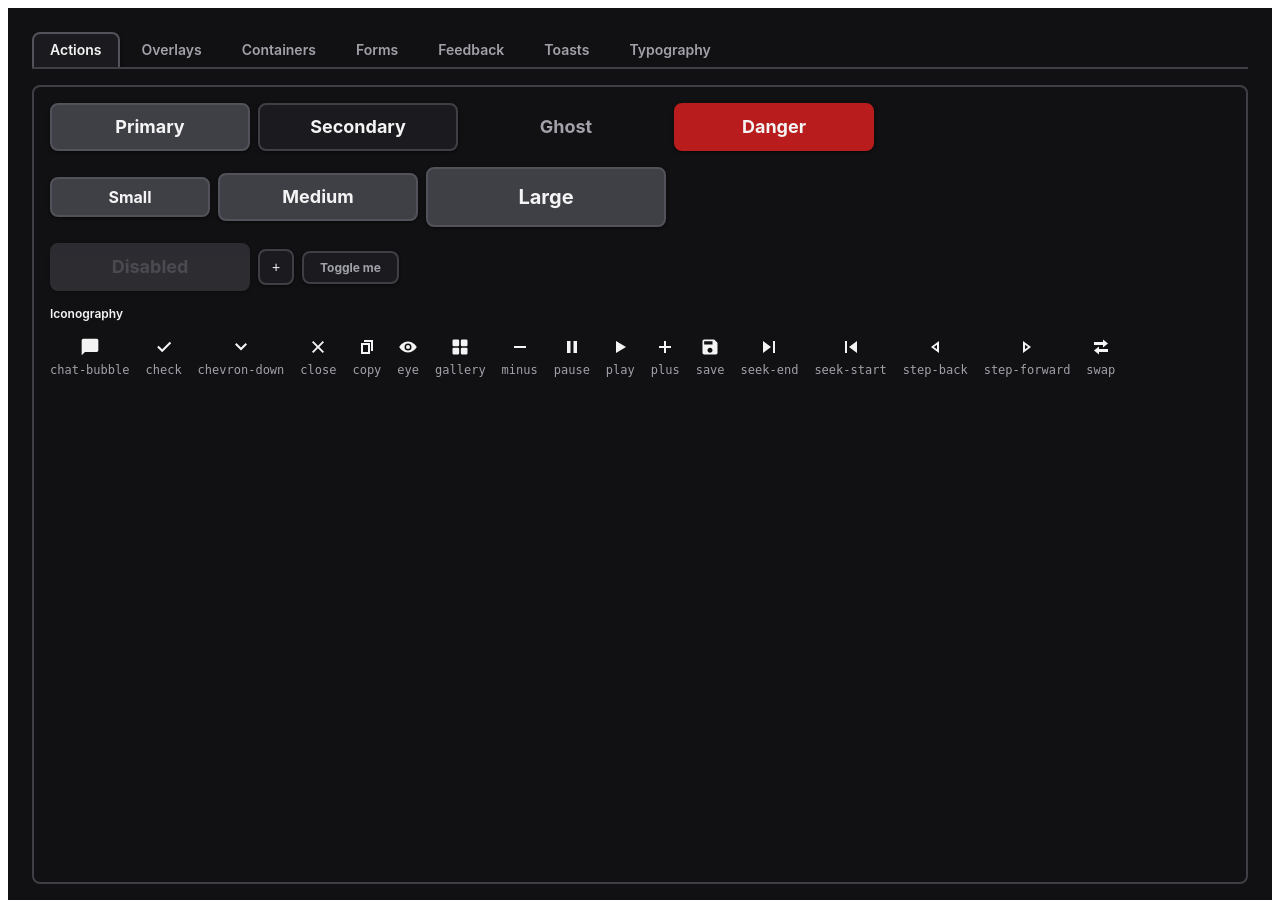
Test: ComponentGalleryClient — modal interaction › closes the example Modal when the close button is clicked
Step 1. Click the tab "Overlays" → (172, 50), box [124,32,220,67]
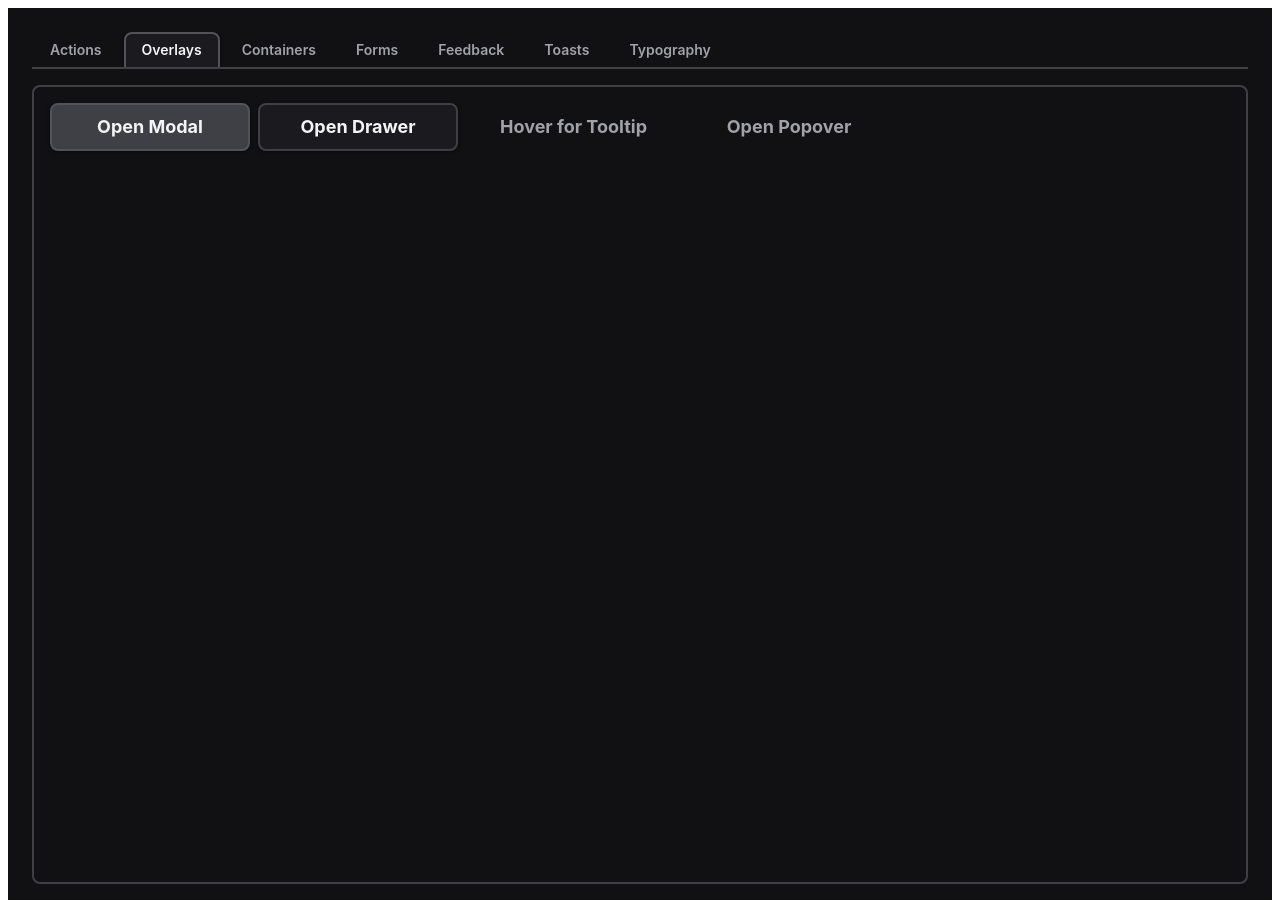
Step 2. Click the button with test id "gallery-open-modal" → (150, 127), box [50,103,250,151]
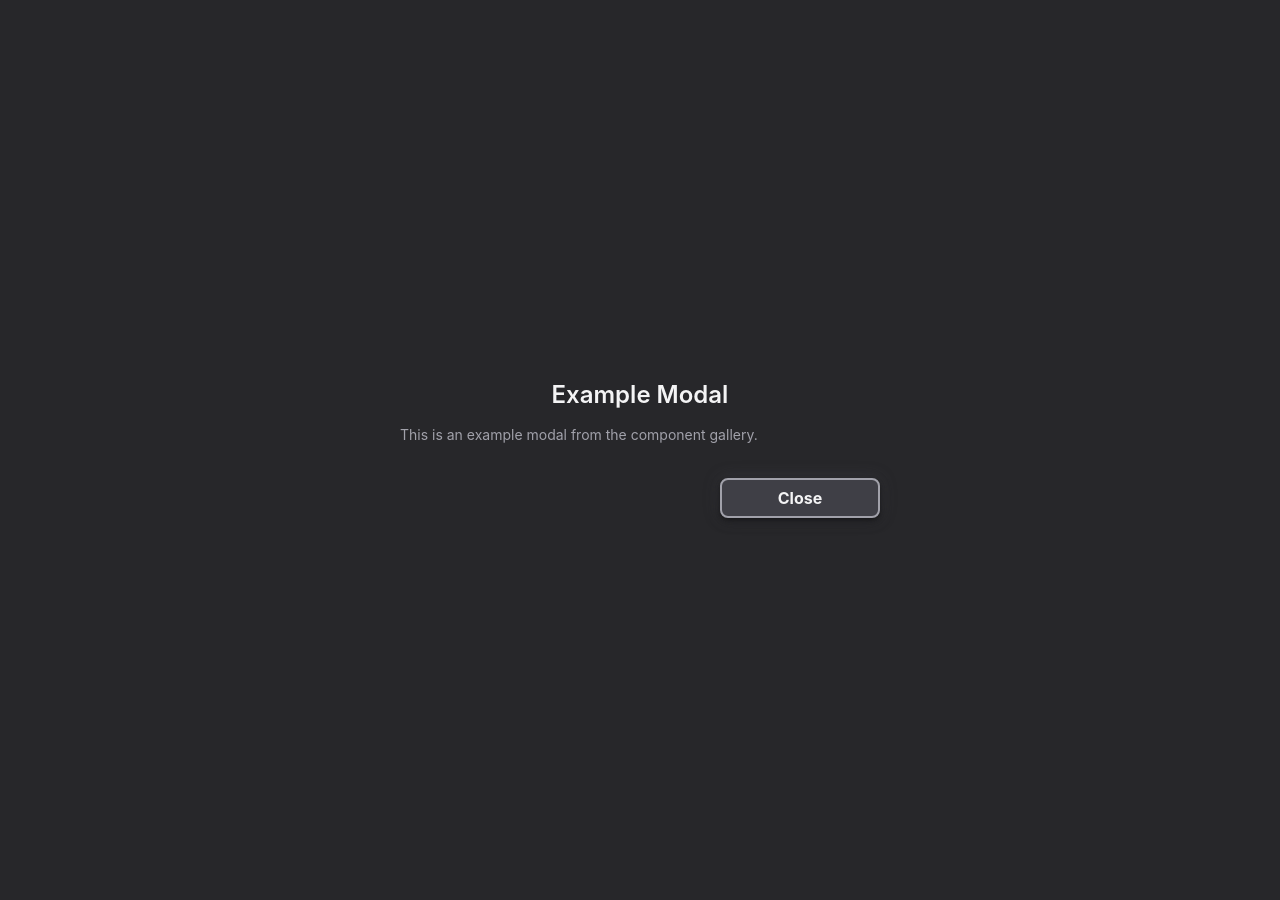
Step 3. Click the button "Close" → (800, 498), box [720,478,880,518]
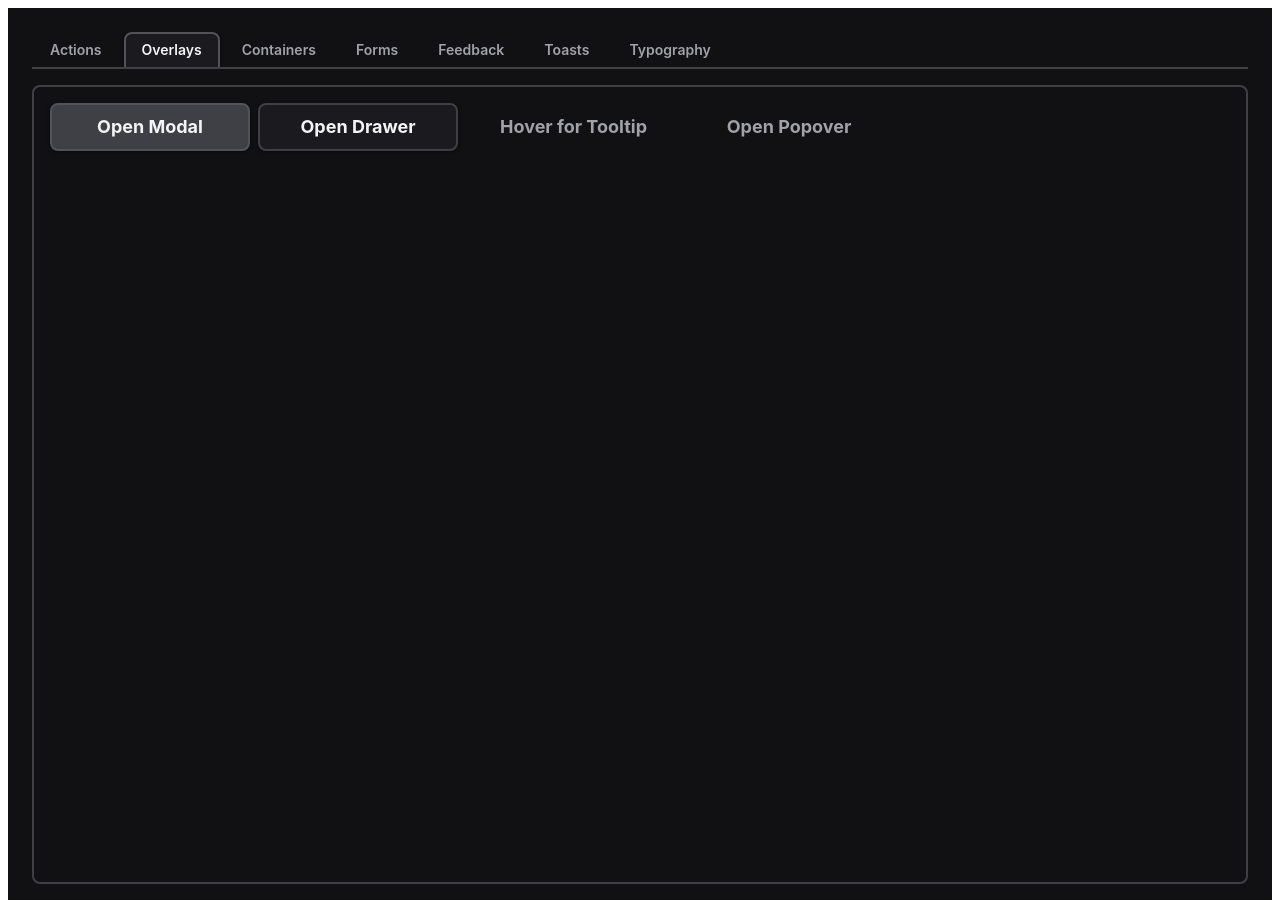
Expected: the dialog is gone
